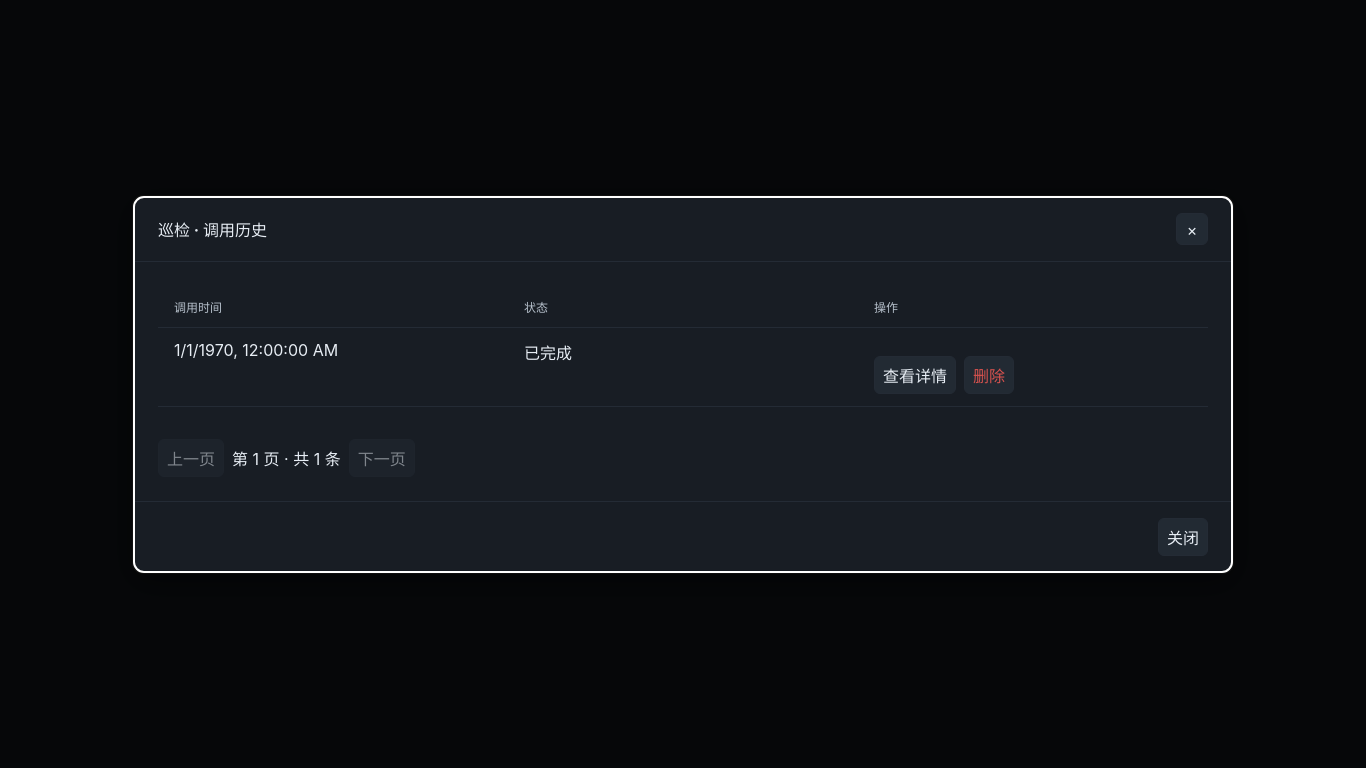
Test case: ignores a poll response that arrives after deletion
Click the button "删除" at x=989, y=374, box [964,356,1014,394]
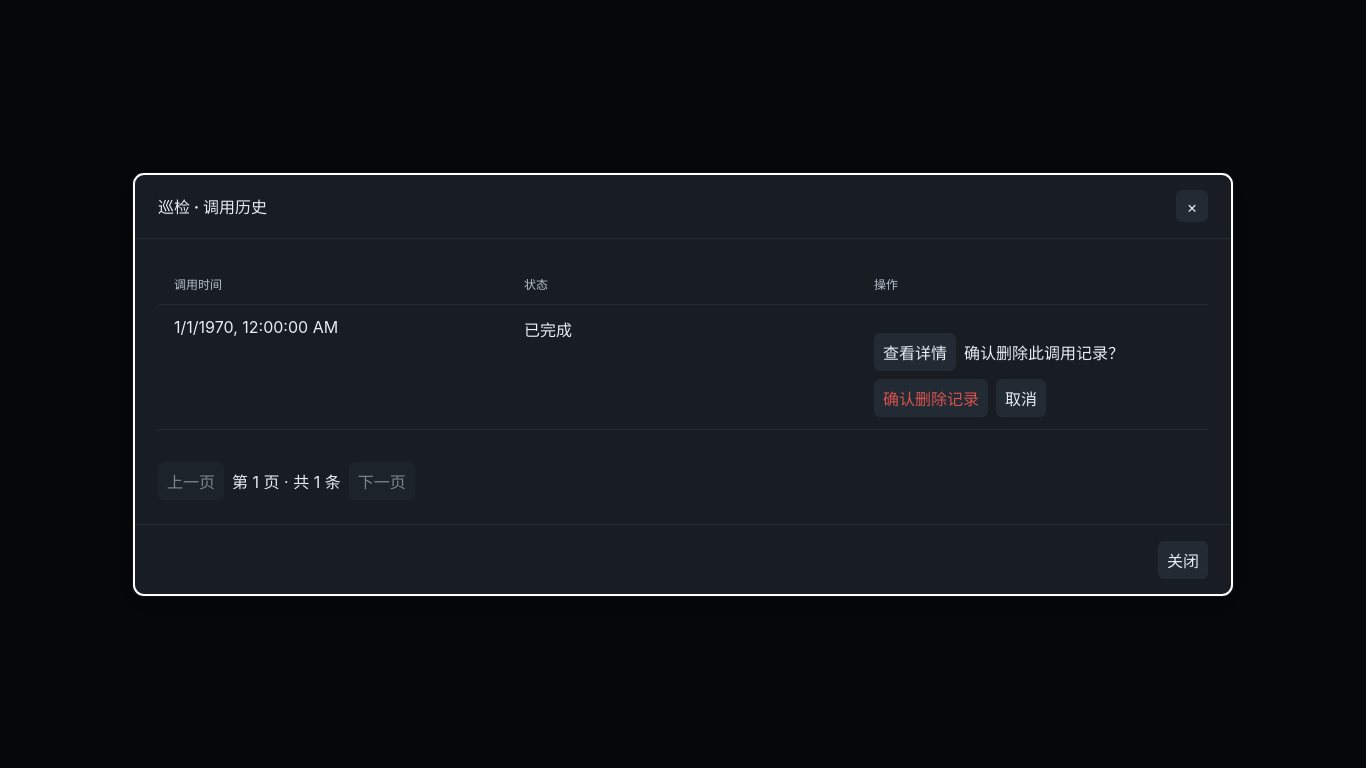
Click the button "确认删除记录" at x=931, y=398, box [874,378,988,416]
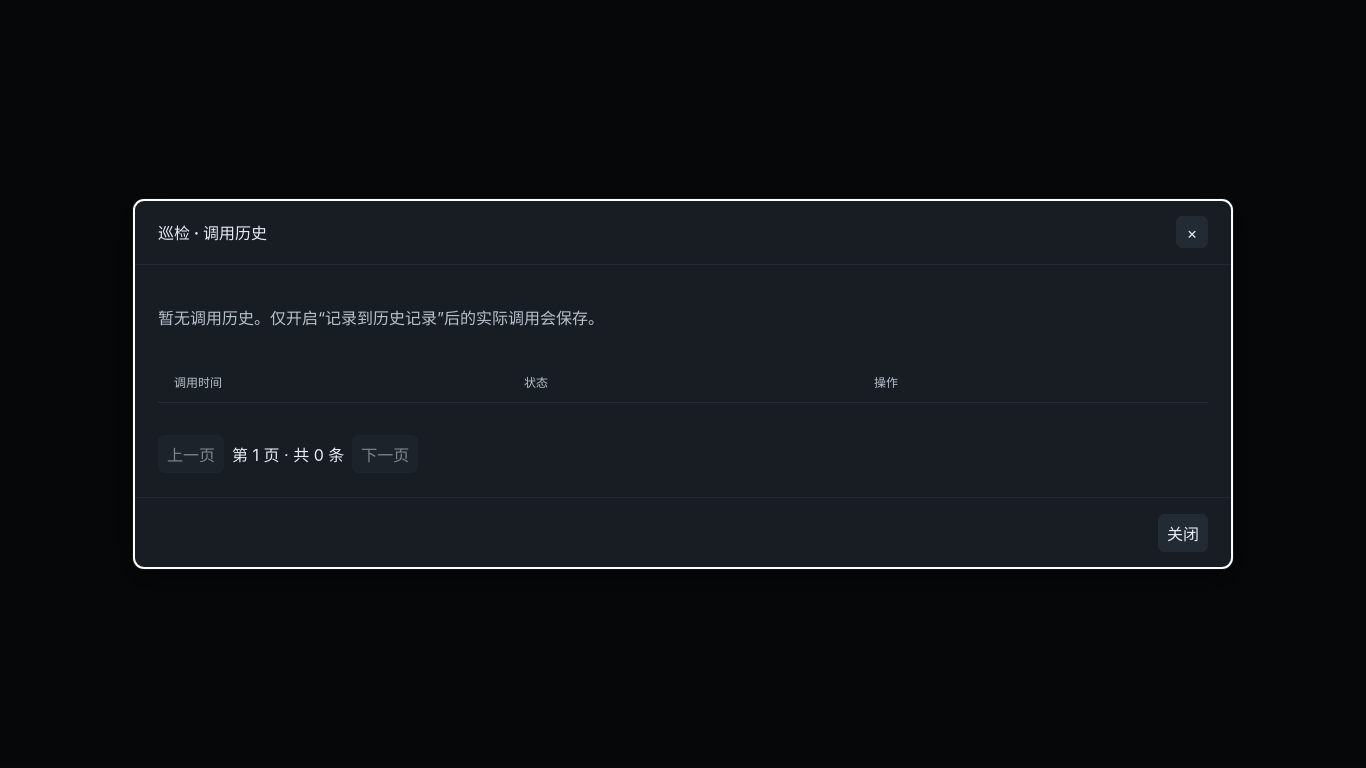
Now the text "暂无调用历史。仅开启“记录到历史记录”后的实际调用会保存。" is shown, box [158,308,604,328]
Now the button "查看详情" is gone
